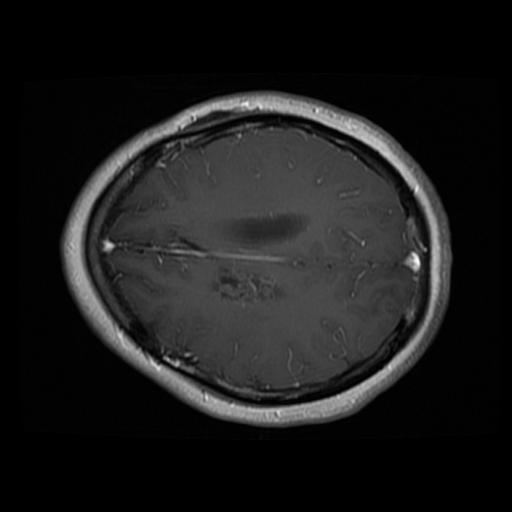glioma: (208, 265, 281, 305)
